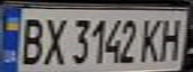1: (87, 16, 109, 64)
2: (121, 15, 142, 64)
3: (66, 15, 90, 65)
4: (106, 15, 124, 64)
B: (12, 14, 48, 66)
H: (157, 14, 190, 61)
K: (136, 15, 166, 63)
X: (39, 14, 69, 66)
